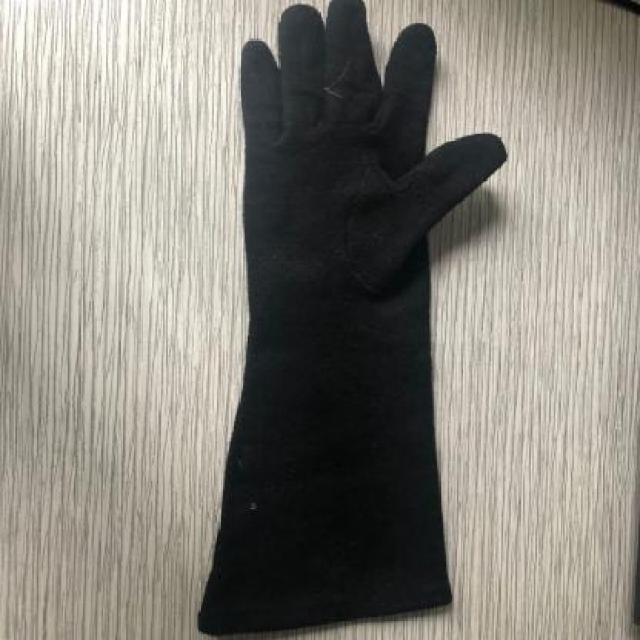Gloves: (188, 0, 512, 640)
